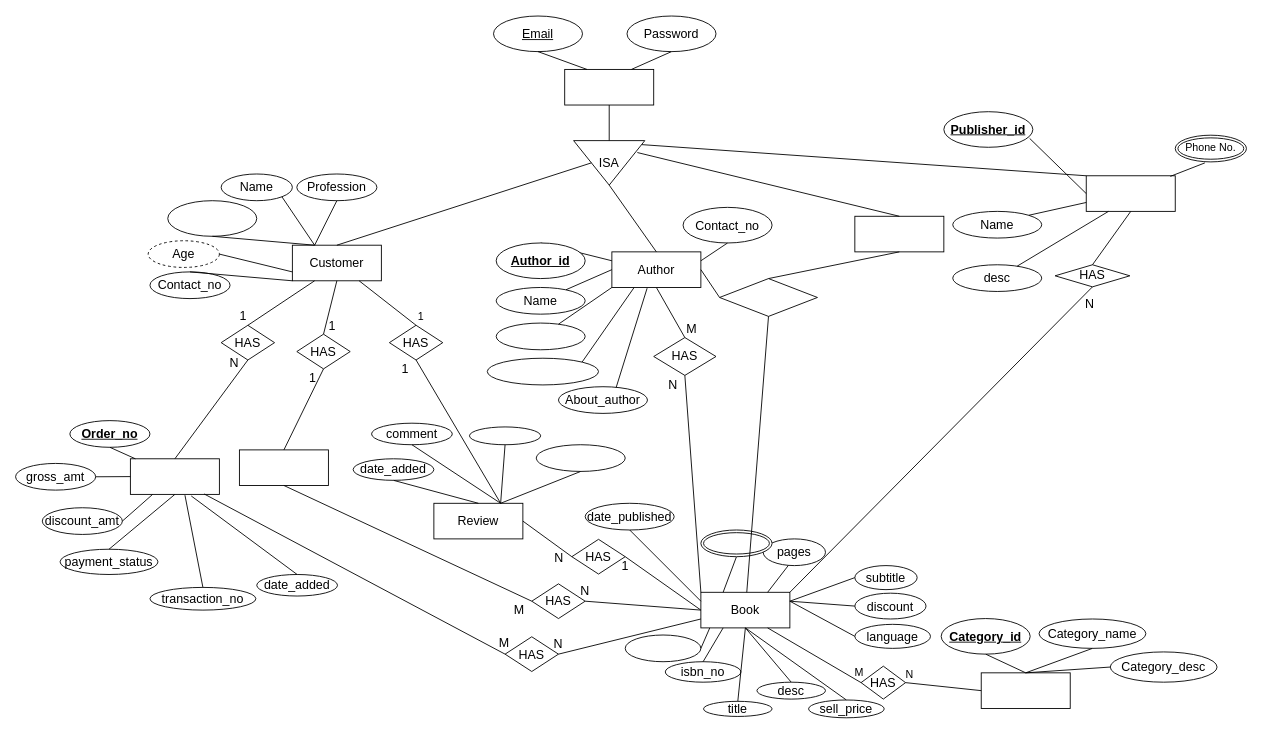
This 1262x733 diagram has some shape labels left out. The box of each missing label's shape, as (x1, y1, x2, y2) in pixels:
Admin: (854, 215, 944, 252)
Book_id: (624, 634, 701, 662)
Category: (980, 672, 1070, 708)
Customer_id: (167, 200, 257, 236)
Gender: (495, 322, 585, 350)
is_self_published: (486, 357, 599, 385)
Keywords: (700, 529, 772, 557)
Manages: (719, 278, 817, 316)
My_library: (239, 449, 328, 485)
Orders: (129, 458, 219, 494)
Publisher: (1085, 175, 1175, 211)
rating: (469, 426, 541, 445)
review_id: (535, 444, 625, 471)
User: (564, 69, 654, 105)
